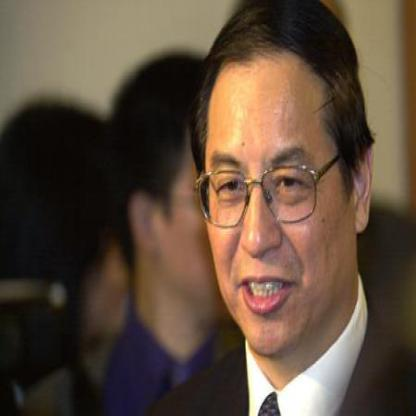face: (197, 5, 360, 358)
